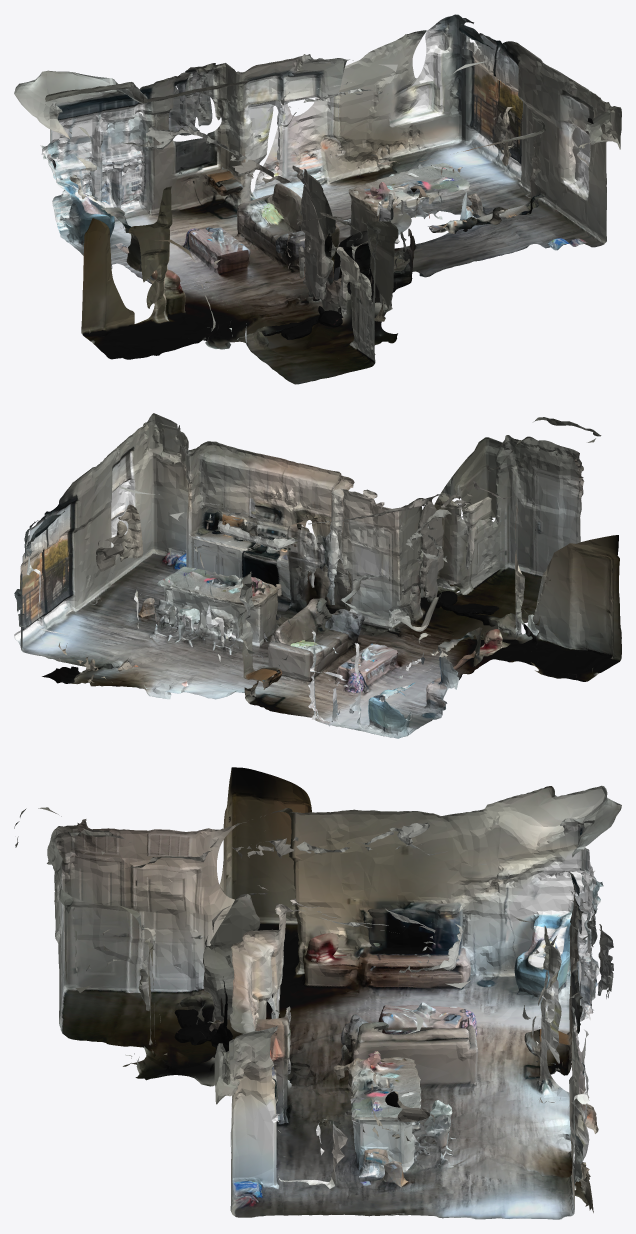
The model's file is tree.glb.
3 renders of one model, top to bottom at view 1: azimuth 30°, elevation 25°; view 2: azimuth 150°, elevation 25°; view 3: azimuth 270°, elevation 25°, orthographic. The views are drawn at different scales.
Size of the model in its own units: 10.45 by 3.4 by 8.97.
Materials: 3 (3 with a texture image).
